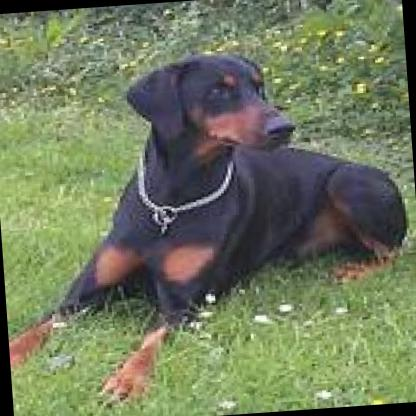Doberman: (0, 34, 416, 416)
